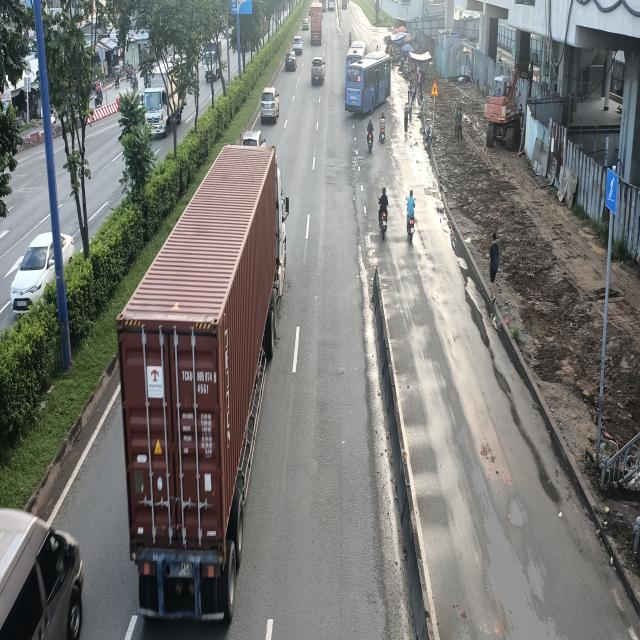car: (261, 86, 282, 124), (311, 57, 326, 86)
coach: (345, 53, 391, 115)
container: (113, 142, 285, 632), (310, 2, 324, 46)
van: (1, 504, 83, 640)
